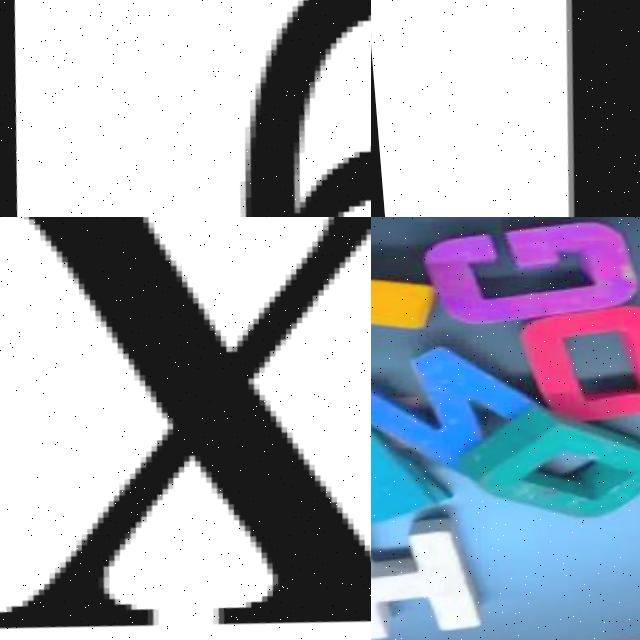9: (199, 0, 371, 217)
D: (434, 412, 640, 535)
G: (410, 217, 640, 346)
H: (371, 508, 498, 640)
O: (510, 296, 640, 435)
X: (0, 217, 371, 640)
